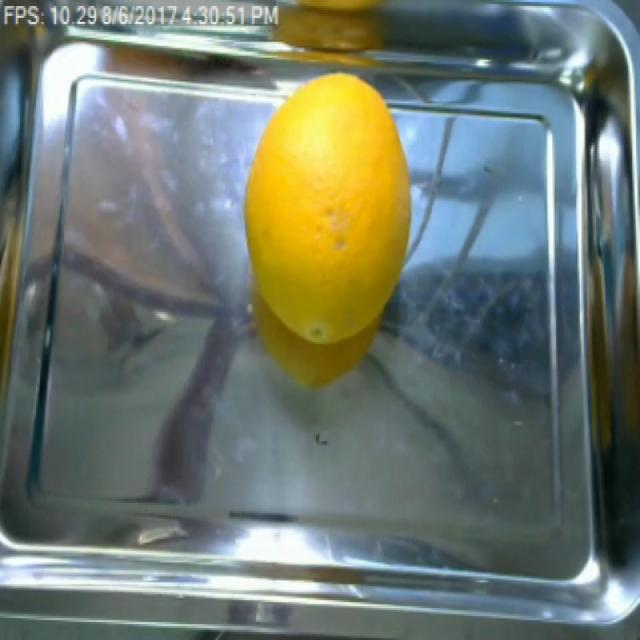Fruit: (229, 63, 416, 390), (256, 0, 419, 36)
